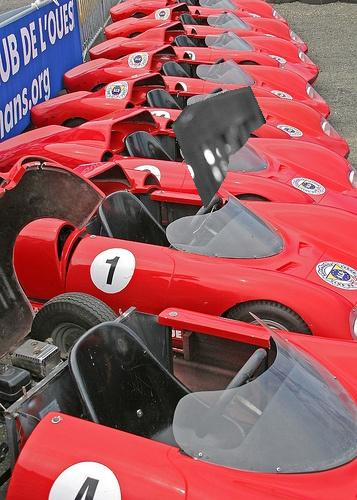tampered: (172, 87, 266, 208)
